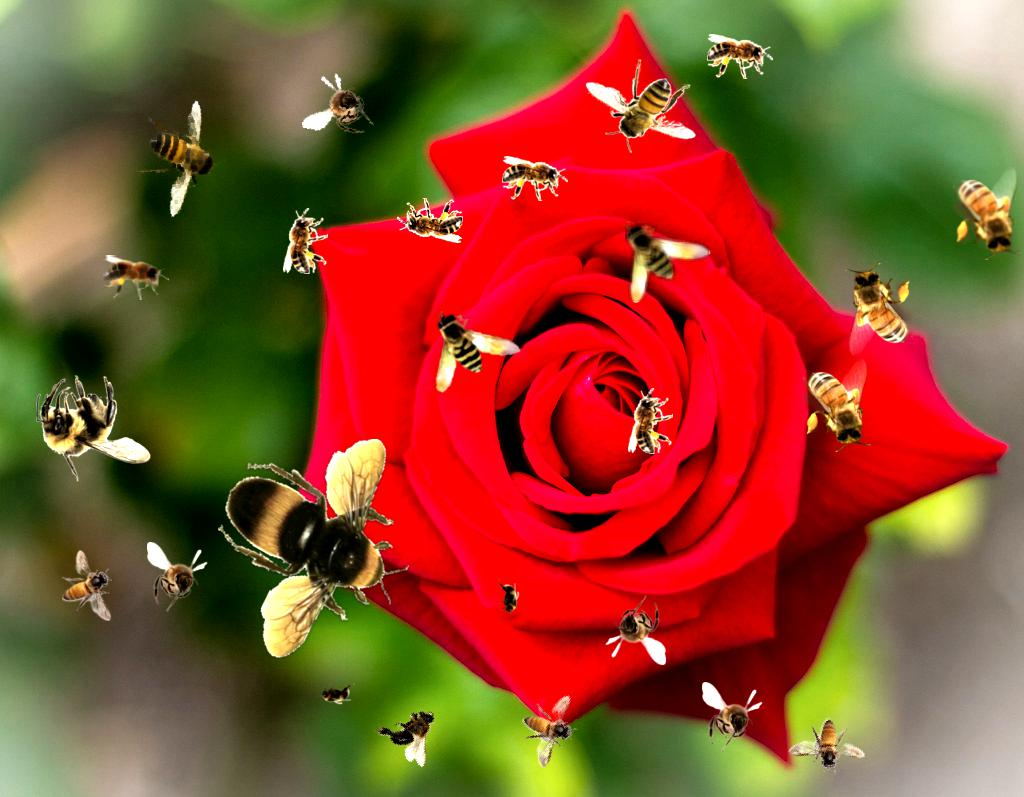Bee: (218, 439, 409, 659), (121, 94, 240, 226), (36, 375, 151, 482), (585, 59, 696, 153), (427, 309, 525, 401), (507, 683, 593, 770), (623, 221, 711, 303), (370, 690, 453, 770), (787, 708, 873, 785), (301, 67, 384, 145), (803, 359, 871, 452), (953, 167, 1021, 260), (845, 263, 913, 356), (605, 595, 666, 665), (147, 542, 208, 612), (702, 682, 763, 752), (62, 550, 112, 621), (397, 198, 463, 243), (628, 388, 673, 454), (103, 255, 169, 300), (283, 208, 328, 274), (707, 34, 773, 79), (502, 156, 568, 201), (315, 683, 355, 705), (498, 579, 520, 619)
